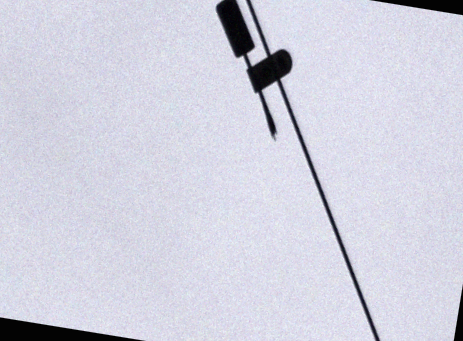damper_defect: (213, 1, 294, 144)
